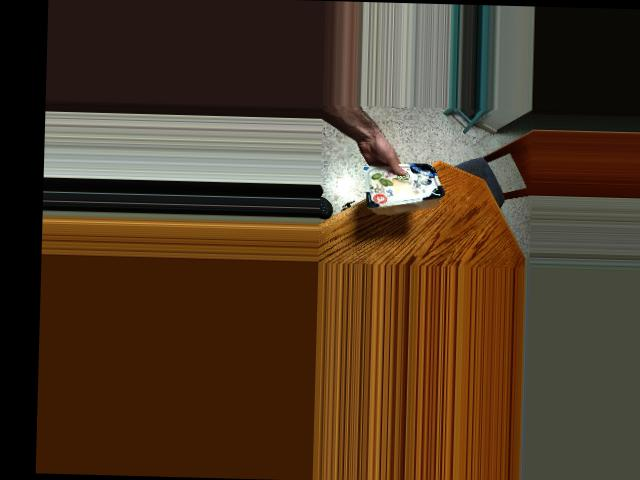cheese: (366, 153, 440, 211)
